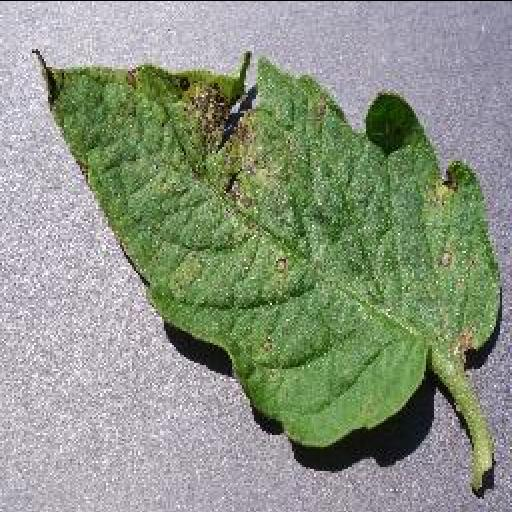disease_tomato: (39, 50, 501, 446)
